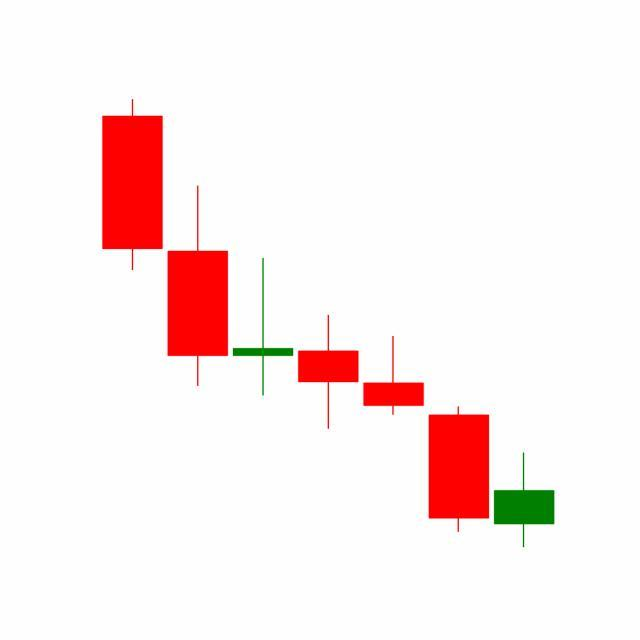Hikkake Pattern: (165, 182, 492, 537)
